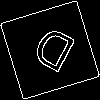D: (25, 25, 78, 82)
